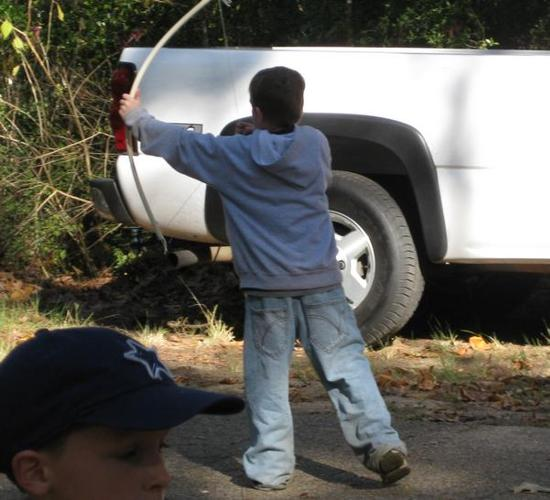person: (122, 57, 414, 490)
